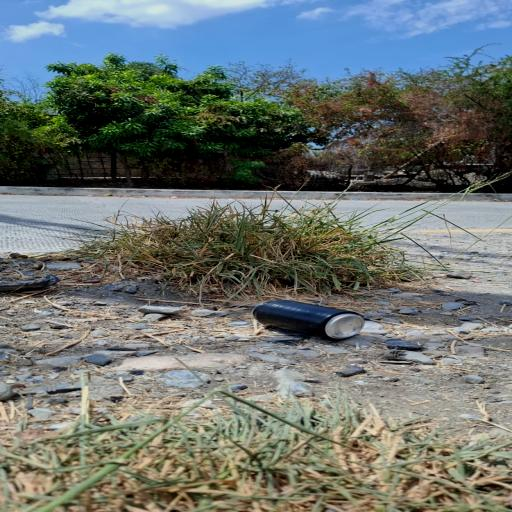LATA: (237, 295, 389, 348)
